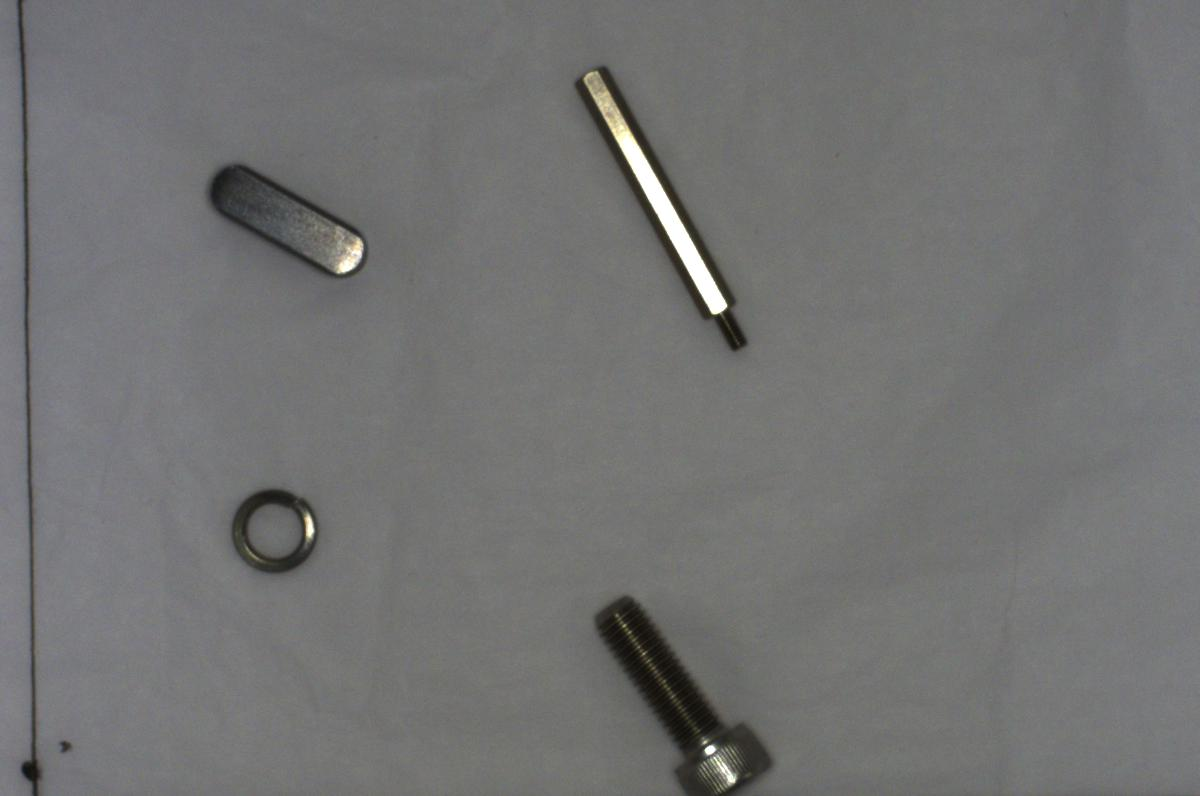Hexagon screw: (585, 583, 782, 795)
Hexagonal steel column: (571, 58, 757, 359)
Keybar: (201, 154, 374, 283)
Spring washer: (224, 483, 324, 583)
